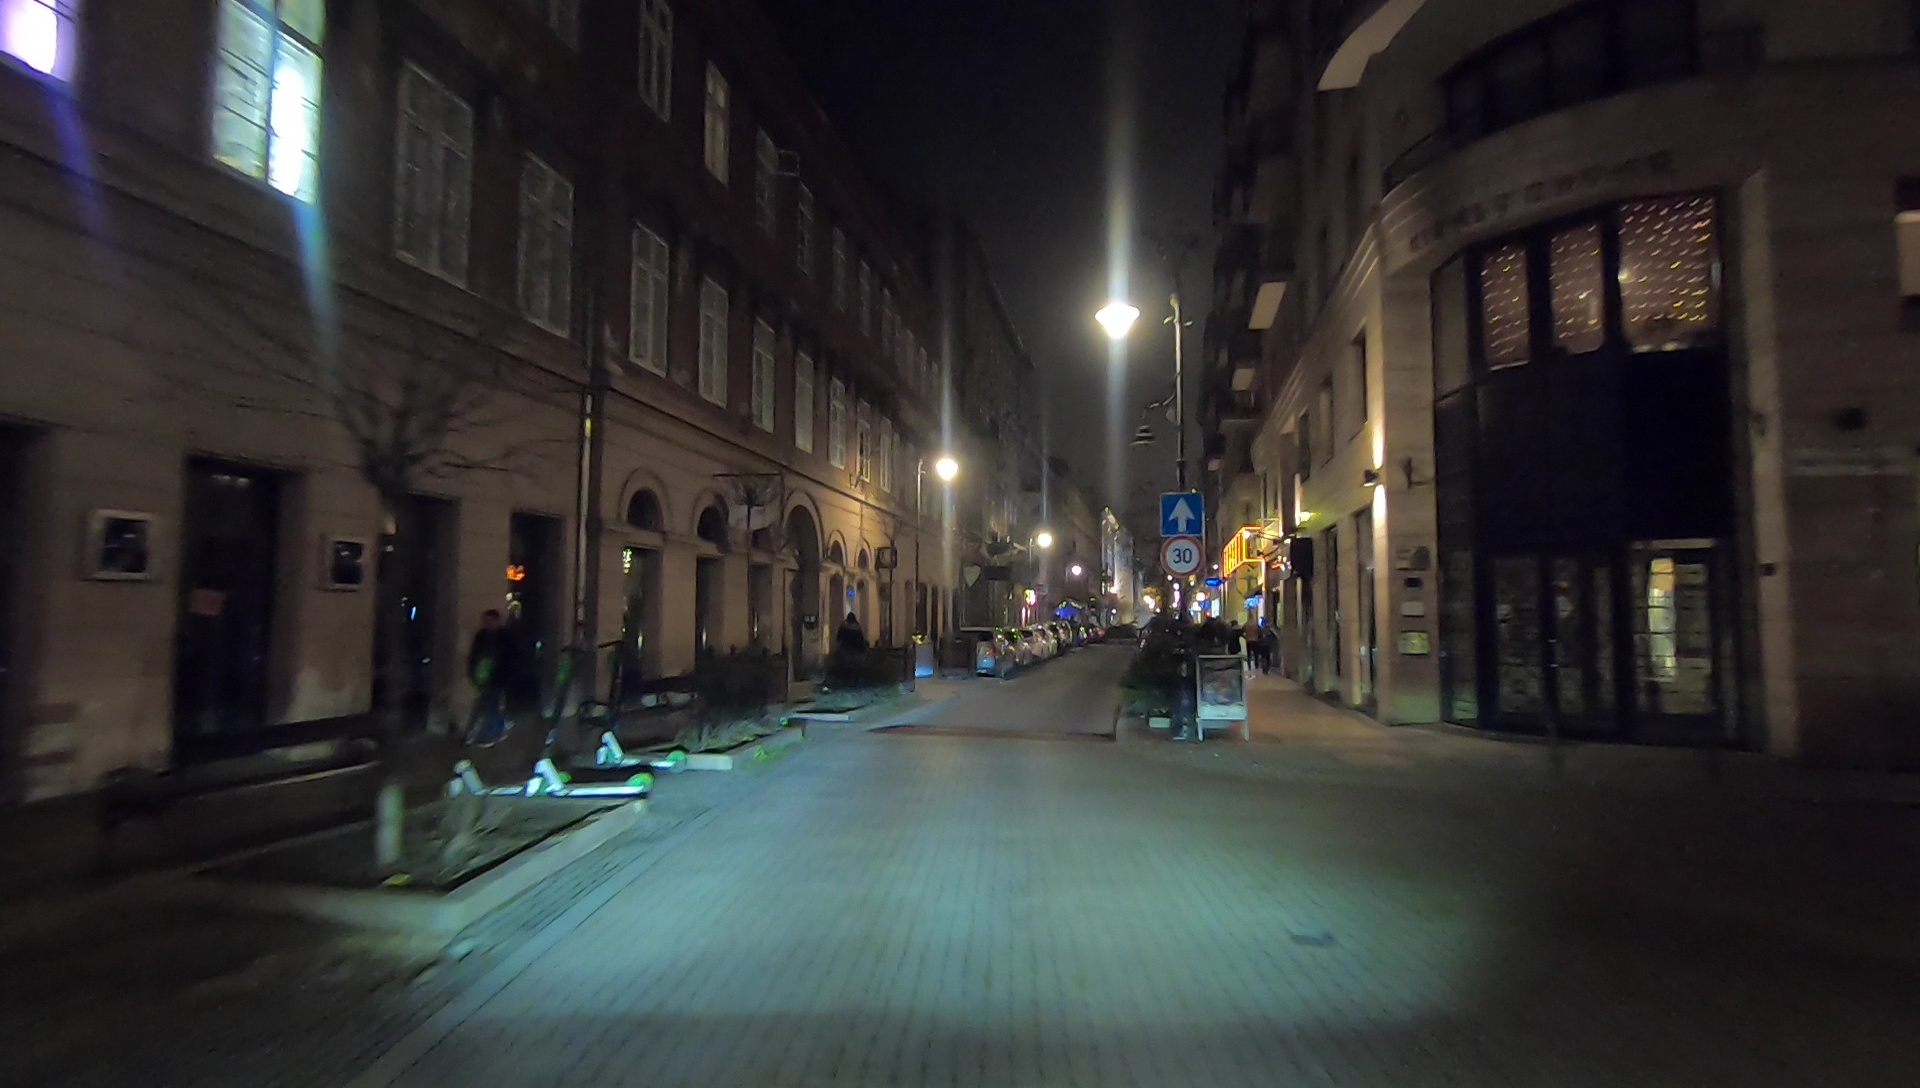person: (471, 604, 514, 747), (832, 610, 864, 676), (1259, 620, 1279, 668), (1244, 618, 1261, 669)
